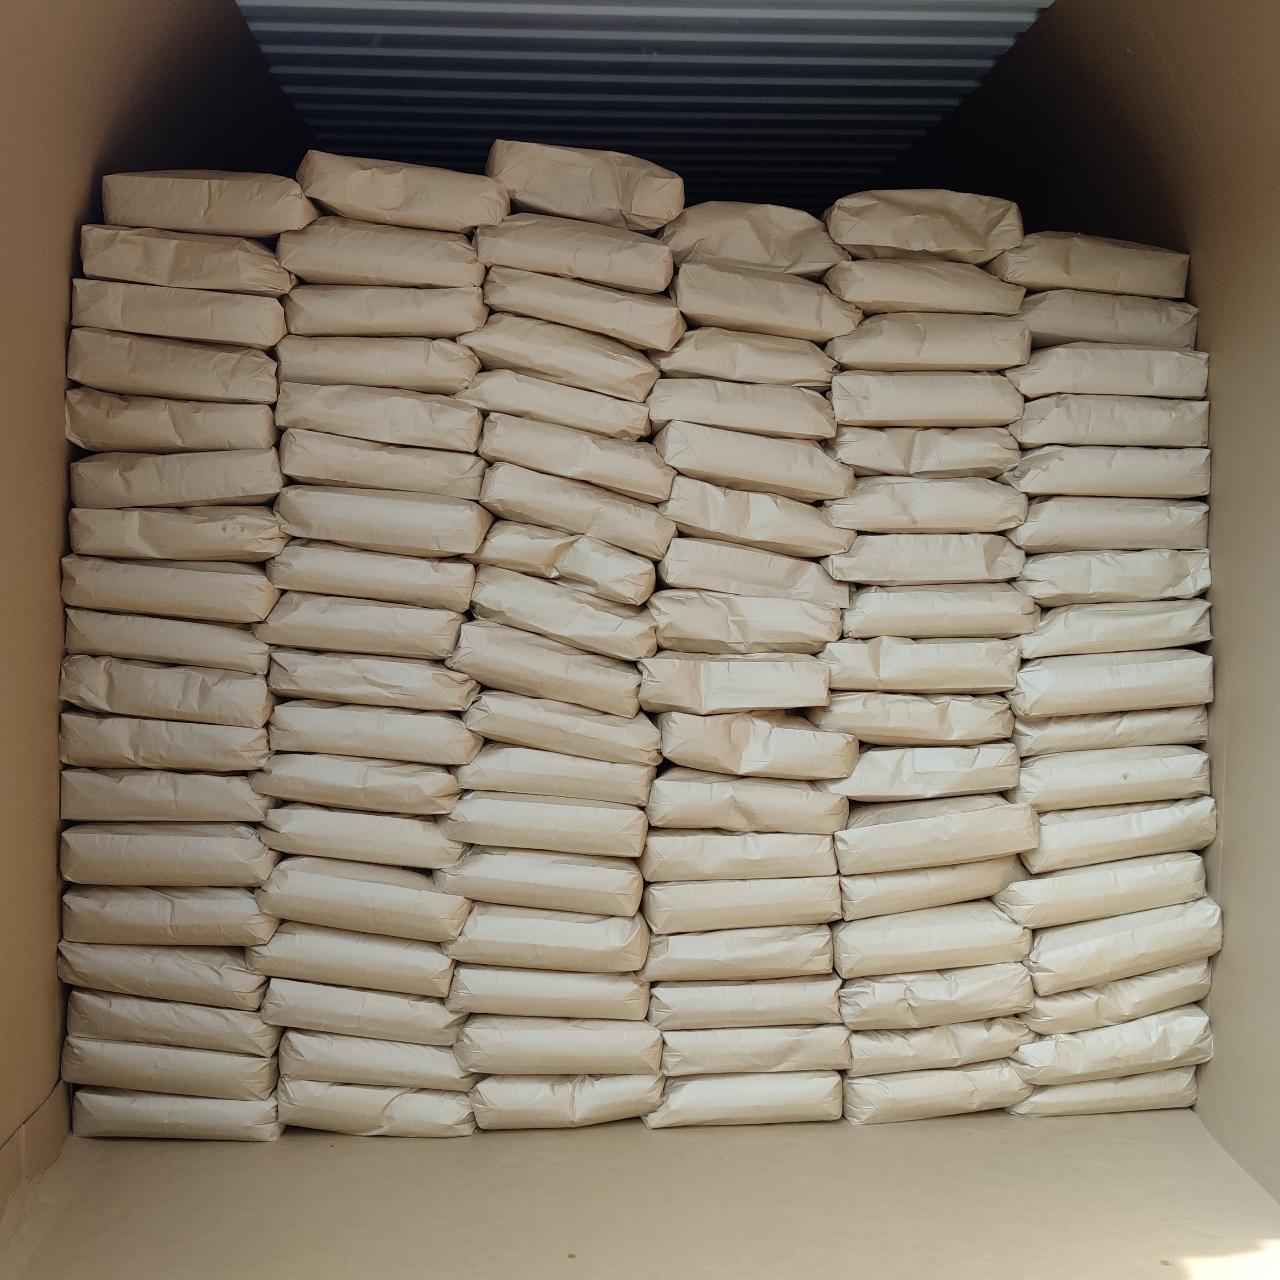sack: (1023, 896, 1221, 995), (445, 621, 639, 717), (479, 463, 675, 558), (486, 139, 685, 232), (256, 857, 469, 941), (479, 413, 675, 502), (297, 150, 509, 232), (471, 566, 656, 659), (459, 314, 658, 400), (485, 267, 686, 349), (1010, 1005, 1212, 1085), (467, 520, 655, 606), (654, 420, 853, 501), (835, 795, 1039, 873), (994, 853, 1206, 928), (659, 475, 855, 556), (474, 213, 672, 293), (68, 328, 275, 403), (246, 922, 452, 998), (274, 485, 492, 556), (833, 900, 1030, 978), (670, 263, 862, 341), (1022, 796, 1216, 873), (82, 227, 297, 297), (72, 279, 286, 348), (275, 216, 483, 287), (62, 554, 280, 622), (62, 656, 272, 727), (822, 190, 1023, 263), (279, 429, 485, 499), (275, 382, 482, 452), (267, 543, 474, 612), (434, 847, 644, 915), (658, 200, 847, 275), (465, 690, 661, 763), (442, 904, 649, 972), (252, 592, 463, 659), (1022, 959, 1210, 1034), (68, 990, 278, 1057), (103, 170, 316, 236), (1007, 649, 1212, 717), (59, 942, 263, 1010), (452, 369, 649, 440), (66, 387, 275, 452), (646, 767, 847, 835), (270, 700, 482, 764), (263, 978, 463, 1046), (62, 824, 277, 887), (658, 538, 847, 610), (989, 231, 1189, 299), (63, 1036, 275, 1099), (64, 610, 268, 675), (440, 792, 647, 857), (1009, 745, 1208, 812), (656, 714, 857, 779), (63, 885, 278, 946), (268, 649, 478, 712), (72, 447, 284, 508), (260, 804, 461, 869), (840, 964, 1034, 1030), (647, 588, 842, 654), (248, 754, 459, 813), (454, 744, 655, 806), (60, 712, 268, 771), (636, 651, 829, 715), (452, 1015, 661, 1074), (840, 856, 1028, 920), (70, 506, 290, 561), (275, 335, 481, 394), (826, 313, 1030, 372), (280, 1030, 475, 1091), (845, 1058, 1032, 1122), (278, 1077, 474, 1137), (647, 377, 835, 440), (1006, 496, 1208, 553), (644, 876, 840, 934), (822, 477, 1027, 533), (1005, 342, 1207, 399), (847, 1017, 1037, 1077), (824, 259, 1024, 315), (1017, 600, 1210, 659), (1017, 549, 1208, 607), (62, 768, 274, 821), (445, 965, 648, 1020), (73, 1087, 279, 1141), (651, 327, 836, 387), (819, 636, 1019, 692), (1017, 290, 1197, 350), (648, 974, 842, 1030), (1002, 445, 1208, 498), (282, 285, 488, 338), (808, 692, 1013, 744), (844, 583, 1040, 638), (641, 925, 832, 981), (1008, 394, 1207, 448), (646, 1073, 843, 1126), (831, 370, 1022, 425), (839, 742, 1019, 801), (469, 1074, 663, 1128), (640, 829, 836, 881), (822, 535, 1026, 585), (1013, 706, 1207, 757), (661, 1026, 850, 1076), (831, 425, 1020, 476), (1009, 1067, 1194, 1116)
